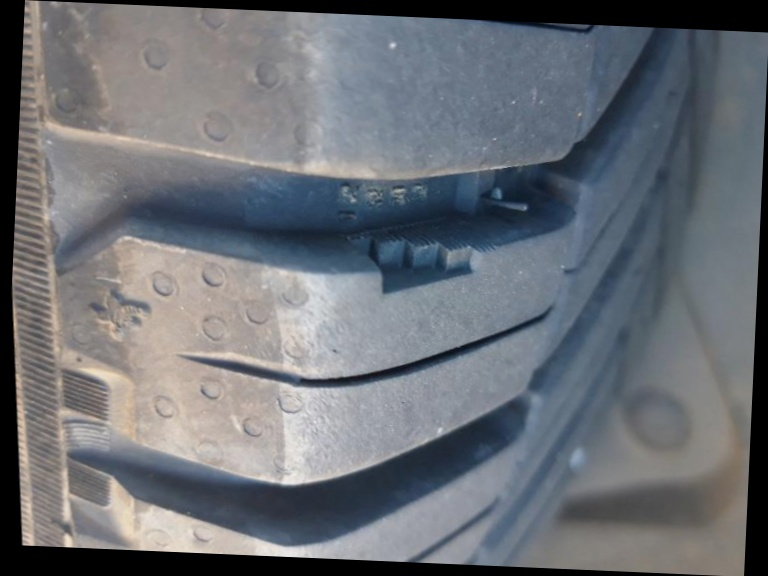temoin:90: (330, 203, 510, 313)
